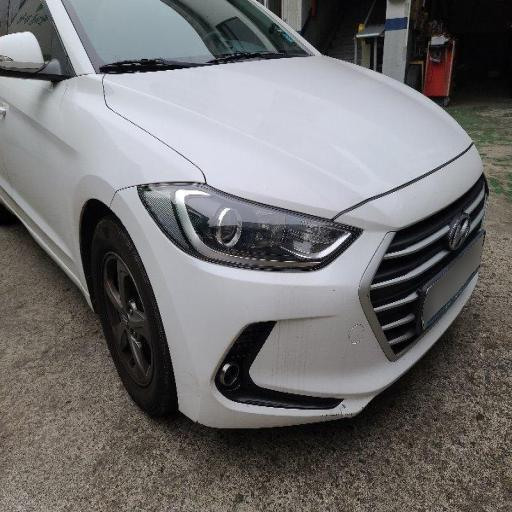normal: (50, 63, 390, 414)
